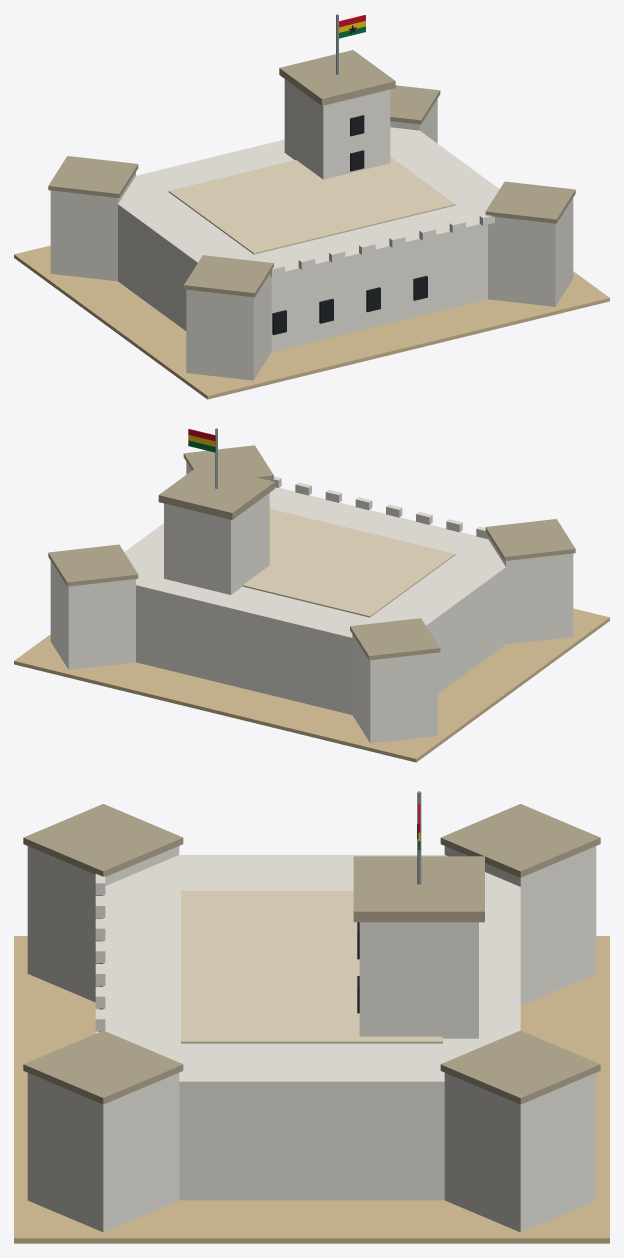
Rendered from castle.glb.
3 renders of one model, top to bottom at view 1: azimuth 30°, elevation 25°; view 2: azimuth 150°, elevation 25°; view 3: azimuth 270°, elevation 25°, orthographic. The views are drawn at different scales.
Parts seen in each view (by area): view 1: castle_white, castle_sand, castle_cream, castle_stone_dark, castle_black; view 2: castle_white, castle_sand, castle_stone_dark, castle_cream; view 3: castle_white, castle_sand, castle_stone_dark, castle_cream.
Part boxes in pixels (x1=…): castle_white: x1=50, y1=79, x2=573, y2=380; castle_sand: x1=14, y1=245, x2=609, y2=399; castle_cream: x1=168, y1=157, x2=455, y2=254; castle_stone_dark: x1=48, y1=50, x2=575, y2=297; castle_black: x1=272, y1=25, x2=427, y2=335; castle_white: x1=50, y1=462, x2=573, y2=743; castle_sand: x1=14, y1=608, x2=609, y2=762; castle_stone_dark: x1=48, y1=445, x2=575, y2=660; castle_cream: x1=242, y1=509, x2=455, y2=617; castle_white: x1=27, y1=846, x2=596, y2=1232; castle_sand: x1=14, y1=936, x2=609, y2=1243; castle_stone_dark: x1=23, y1=804, x2=600, y2=1104; castle_cream: x1=181, y1=890, x2=442, y2=1043.
Bounding box in the file's own units: 120 × 64 × 100.
